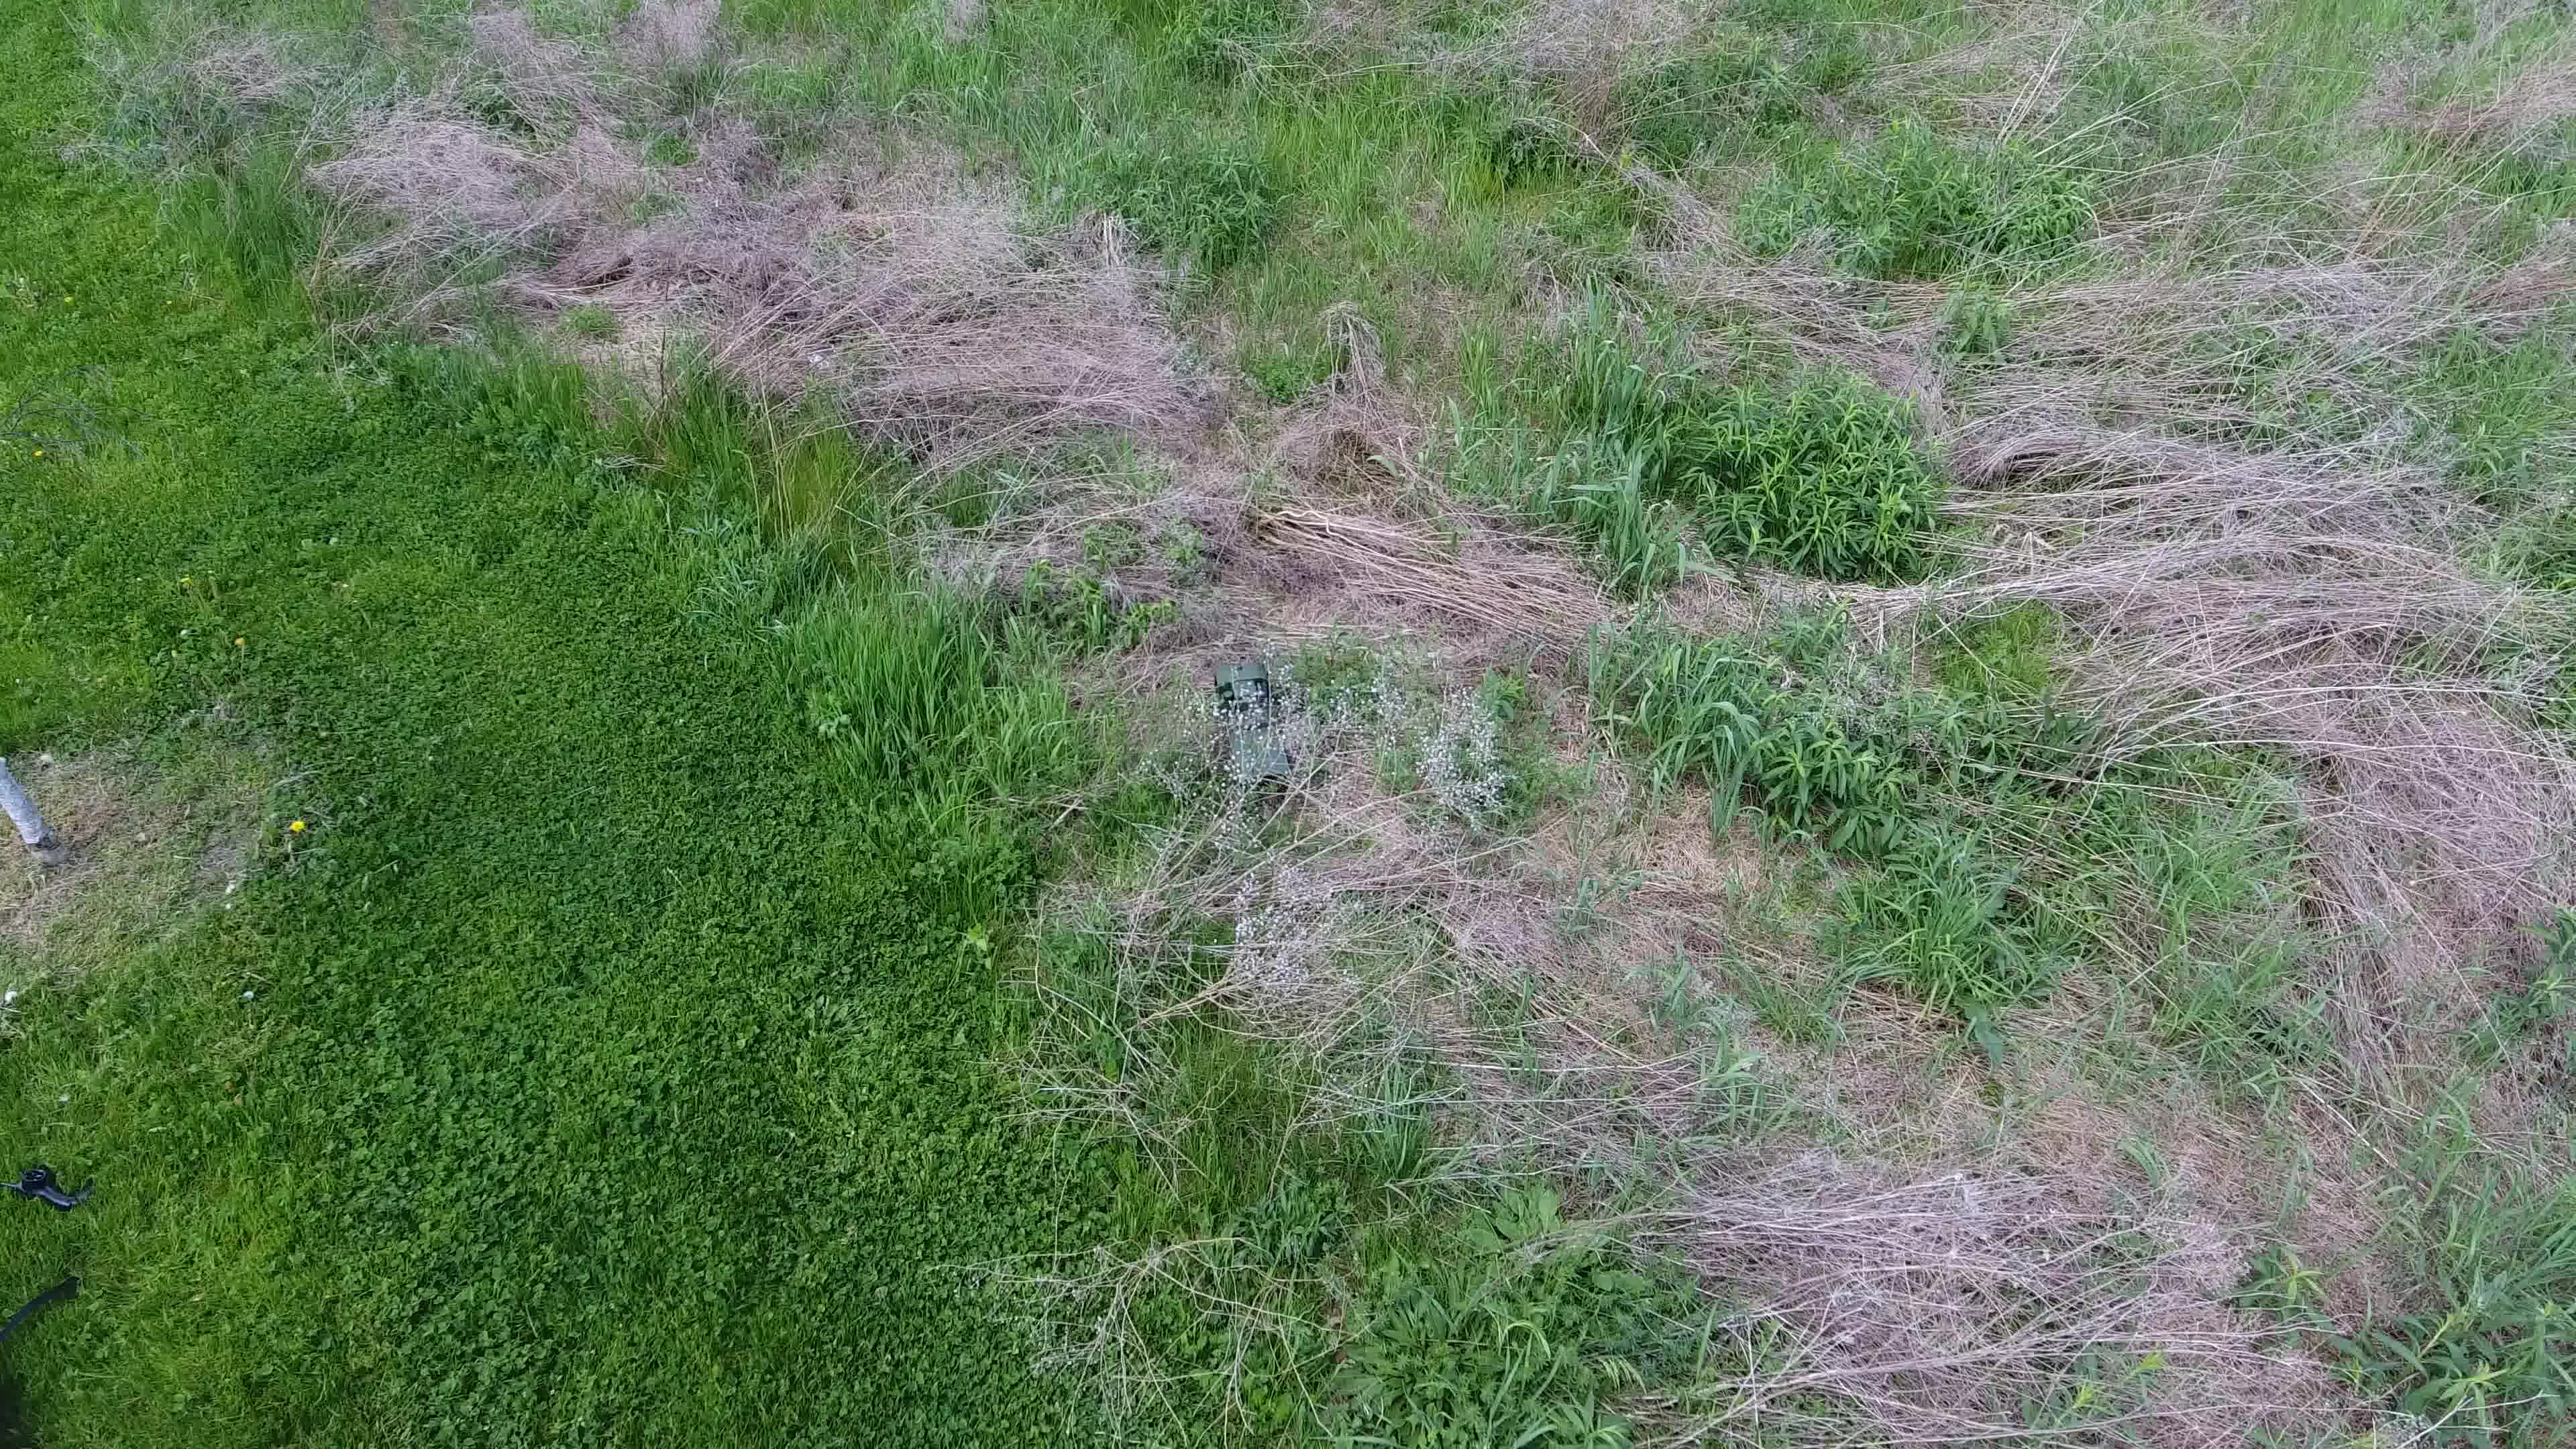transporter9: (1205, 653, 1297, 784)
